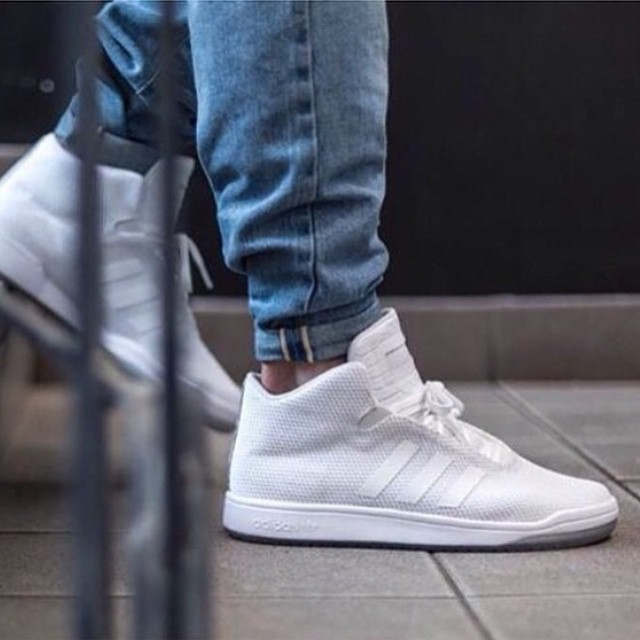sneaker: (197, 288, 633, 568), (1, 112, 259, 444)
